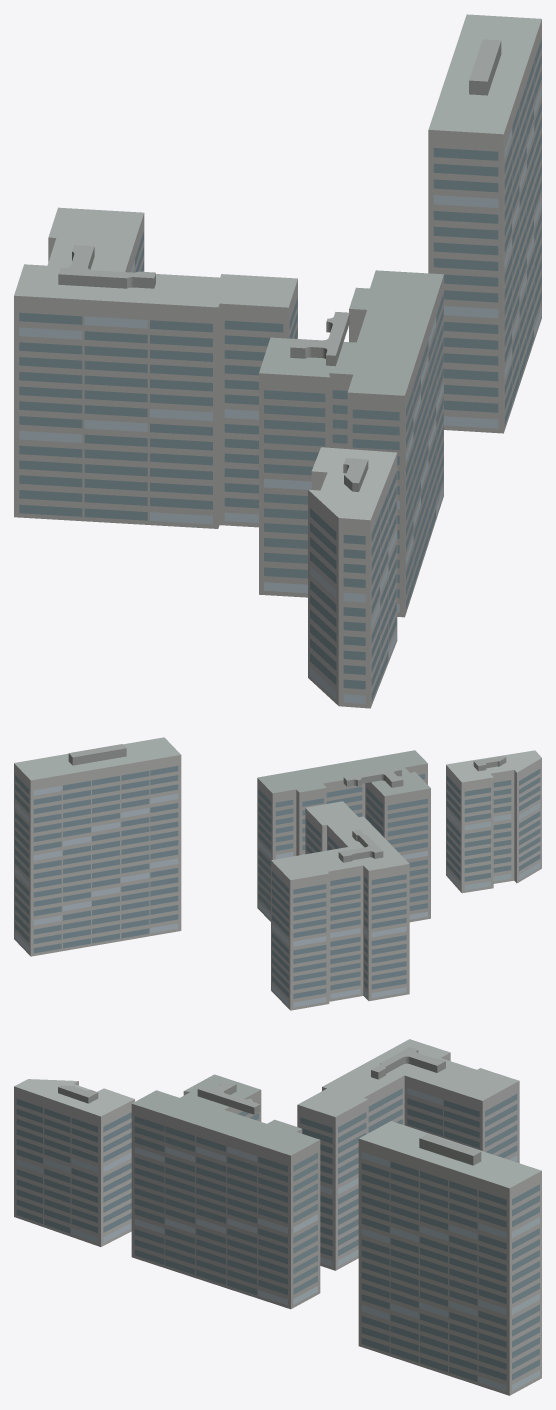
The model's file is apt-a13120704.glb.
3 renders of one model, top to bottom at view 1: azimuth 30°, elevation 25°; view 2: azimuth 150°, elevation 25°; view 3: azimuth 270°, elevation 25°, orthographic. The views are drawn at different scales.
Visible parts, largest first — view 1: apt-a13120704; view 2: apt-a13120704; view 3: apt-a13120704.
Boxes of the visible parts, x1=… form: apt-a13120704: x1=14, y1=14, x2=541, y2=708; apt-a13120704: x1=14, y1=737, x2=541, y2=1010; apt-a13120704: x1=14, y1=1039, x2=541, y2=1395.
Size of the model in its own units: 108 by 54 by 119.
